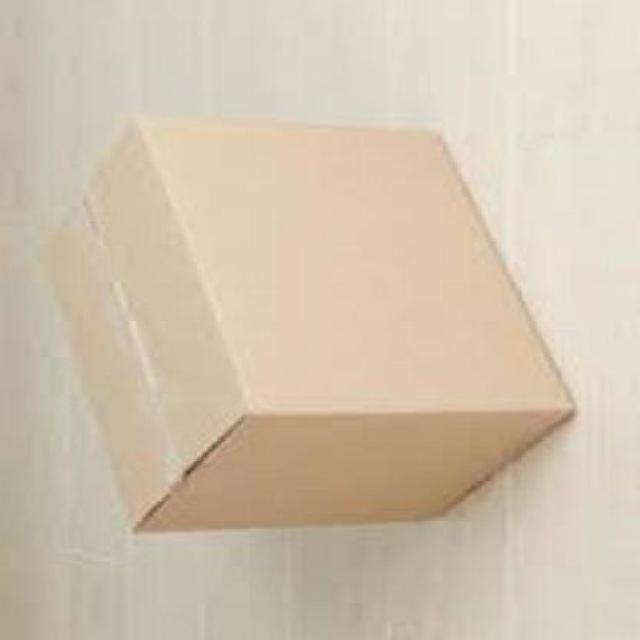normal: (45, 114, 577, 540)
